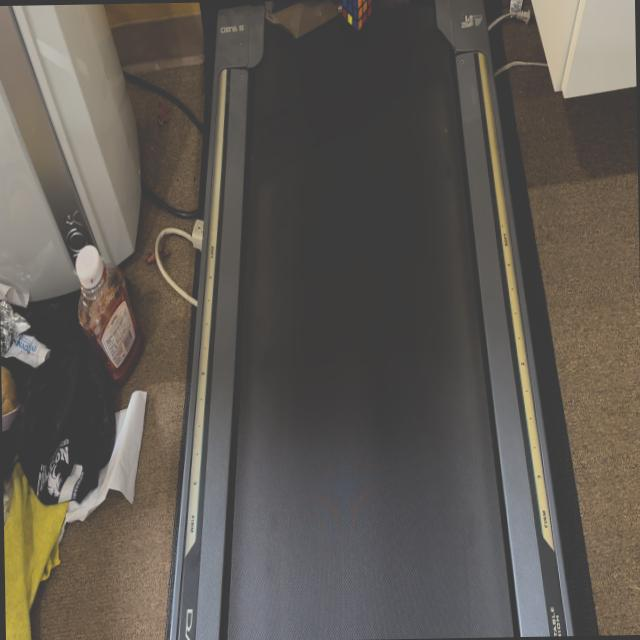Trash: (335, 0, 373, 31)
